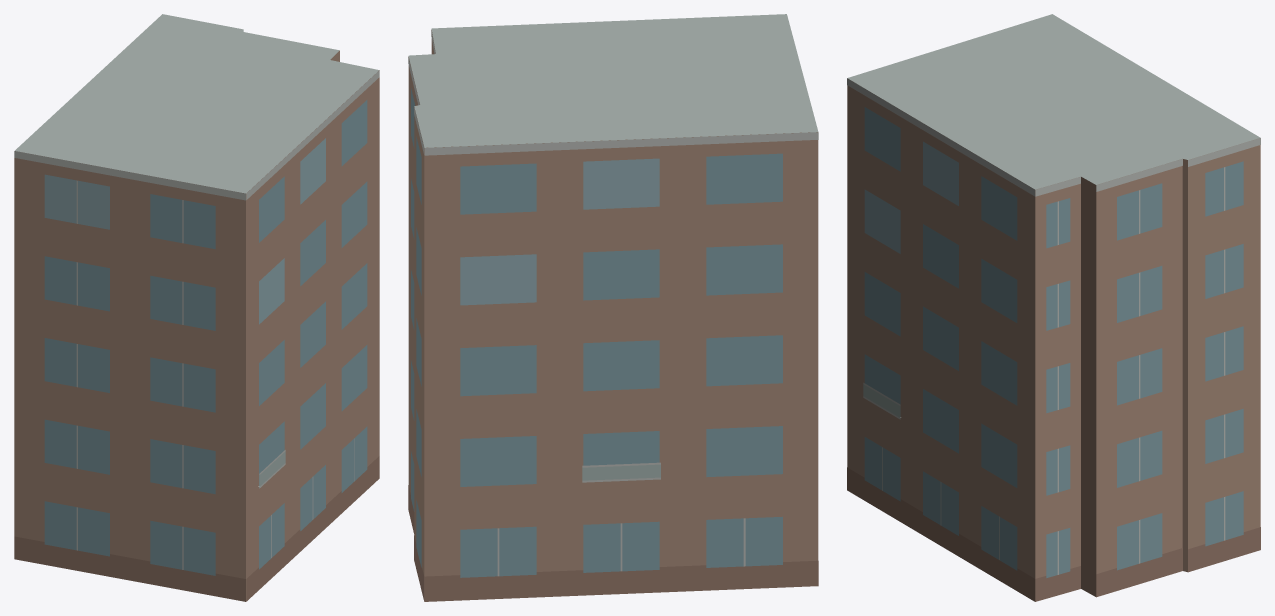
The model's file is survey-upis-32777686.glb.
3 views of the same model, side by side, from view 1: azimuth 30°, elevation 25°; view 2: azimuth 150°, elevation 25°; view 3: azimuth 270°, elevation 25° (orthographic). The views are drawn at different scales.
Visible parts, largest first — view 1: survey-upis-32777686.tmp; view 2: survey-upis-32777686.tmp; view 3: survey-upis-32777686.tmp.
Part boxes in pixels (x1,y1,x2,y2): survey-upis-32777686.tmp: (14,14,379,601); survey-upis-32777686.tmp: (408,14,818,601); survey-upis-32777686.tmp: (847,14,1260,601).
Bounding box in the file's own units: 12.98 × 14.2 × 12.92.
